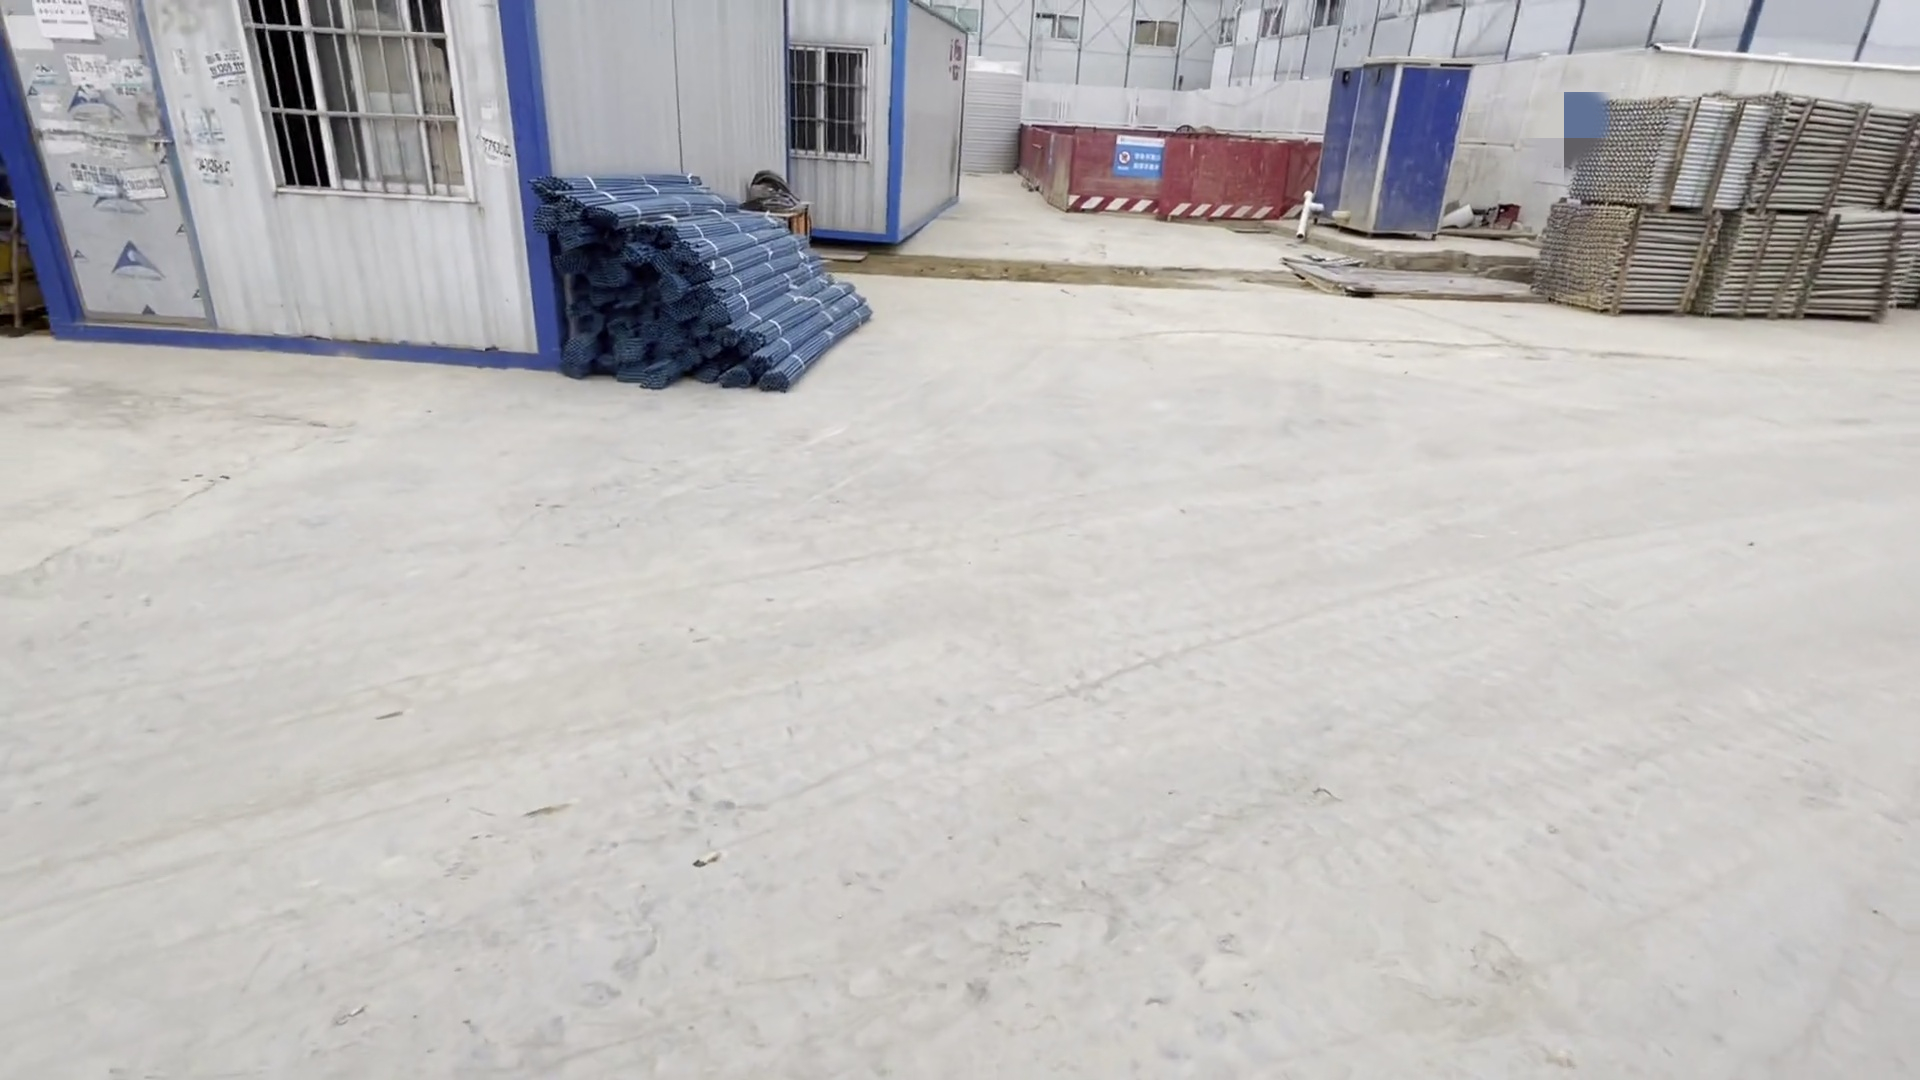fence: (1023, 123, 1317, 237)
scaffold: (1557, 88, 1915, 324)
